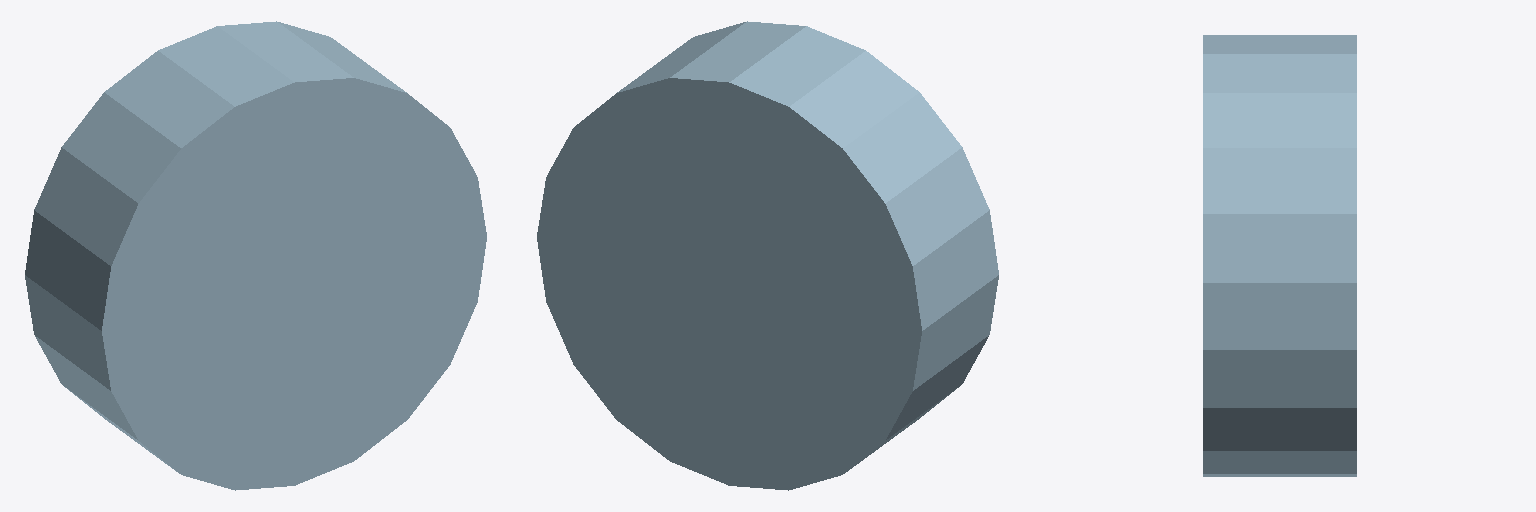
3 views of the same model, side by side, from view 1: azimuth 30°, elevation 25°; view 2: azimuth 150°, elevation 25°; view 3: azimuth 270°, elevation 25° (orthographic).
Parts seen in each view (by area): view 1: polySurface69 polySurface6; view 2: polySurface69 polySurface6; view 3: polySurface69 polySurface6.
Part boxes in pixels (x1,y1,x2,y2): polySurface69 polySurface6: (25, 21, 486, 490); polySurface69 polySurface6: (537, 21, 998, 490); polySurface69 polySurface6: (1203, 35, 1356, 476).
Bounding box in the file's own units: 0.3 × 0.3 × 0.1039.
1 materials, 1 textured.